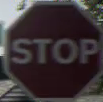Stop: (10, 11, 102, 83)
